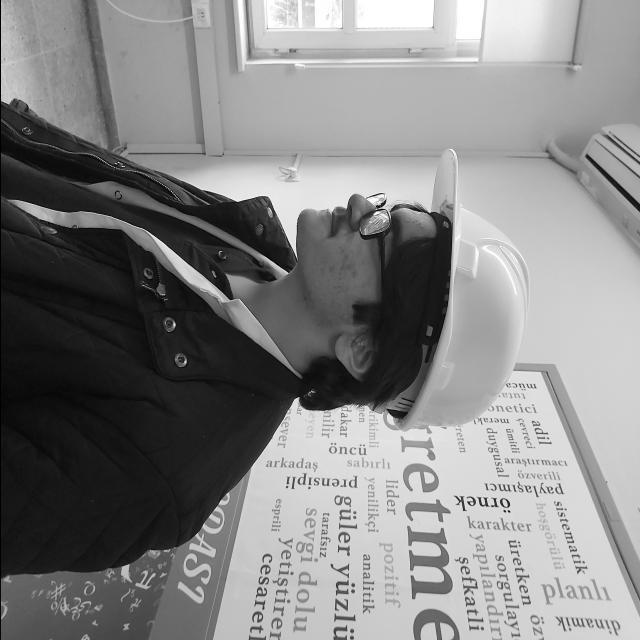safety_helmet: (396, 153, 527, 430)
